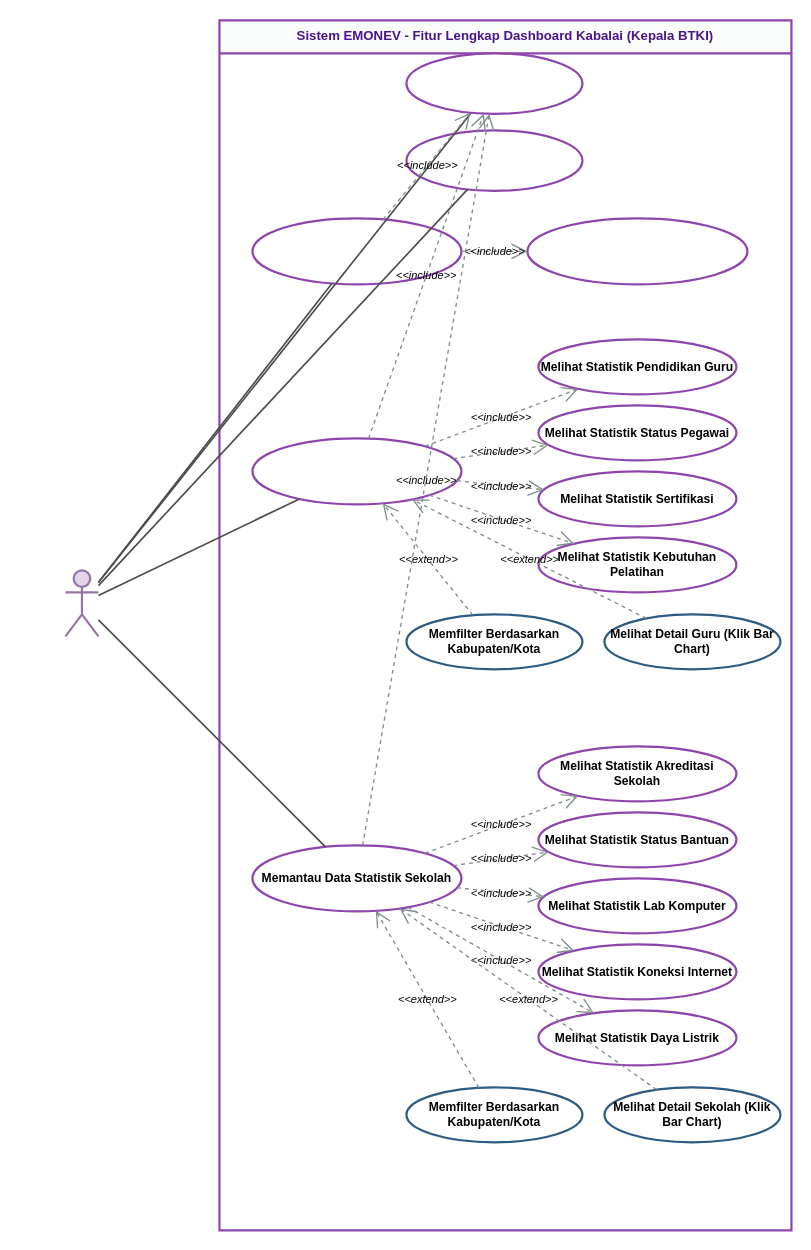
Some shapes in this 811 by 1250 pixel diagram are drawn without their labels. The box of each missing label's shape, as (x1, y1, x2, y2) in pixels:
Kabalai (Kepala BTKI): (64, 569, 99, 637)
Login ke Sistem: (405, 52, 583, 114)
Logout dari Sistem: (405, 129, 583, 191)
Melihat Dashboard Kabalai: (251, 217, 462, 285)
Memantau Data Statistik Guru: (251, 437, 462, 505)
Memantau Ringkasan Statistik Utama: (526, 217, 748, 285)
